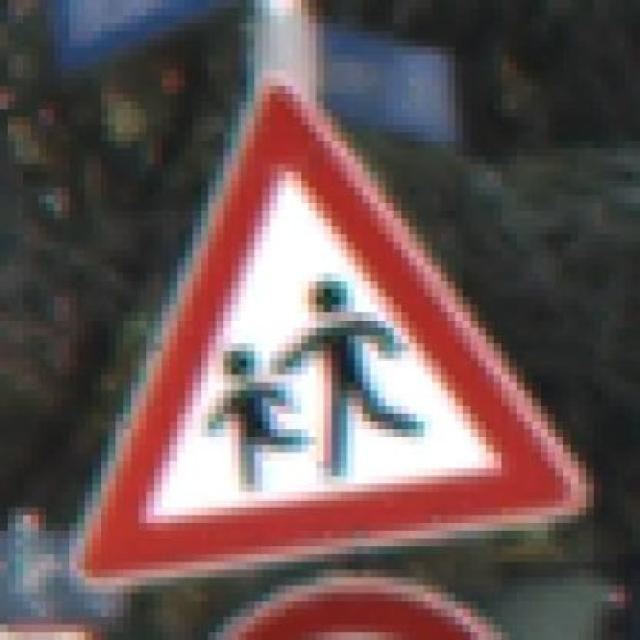Beware of children: (46, 78, 602, 585)
